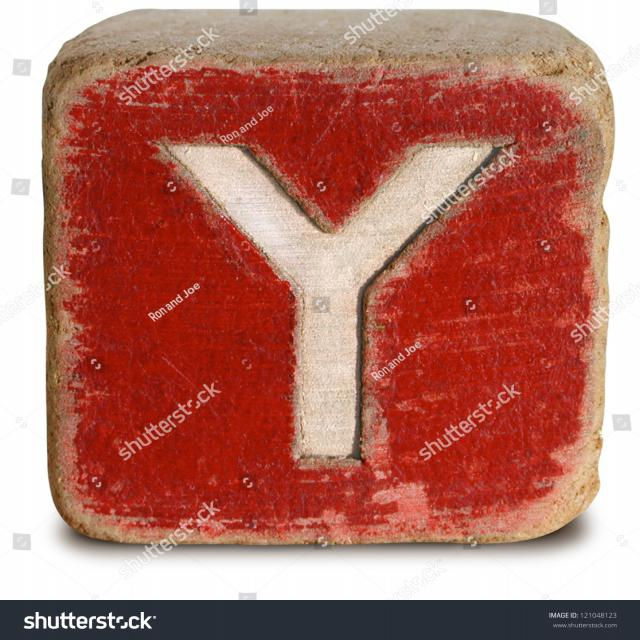Y: (130, 90, 525, 485)
